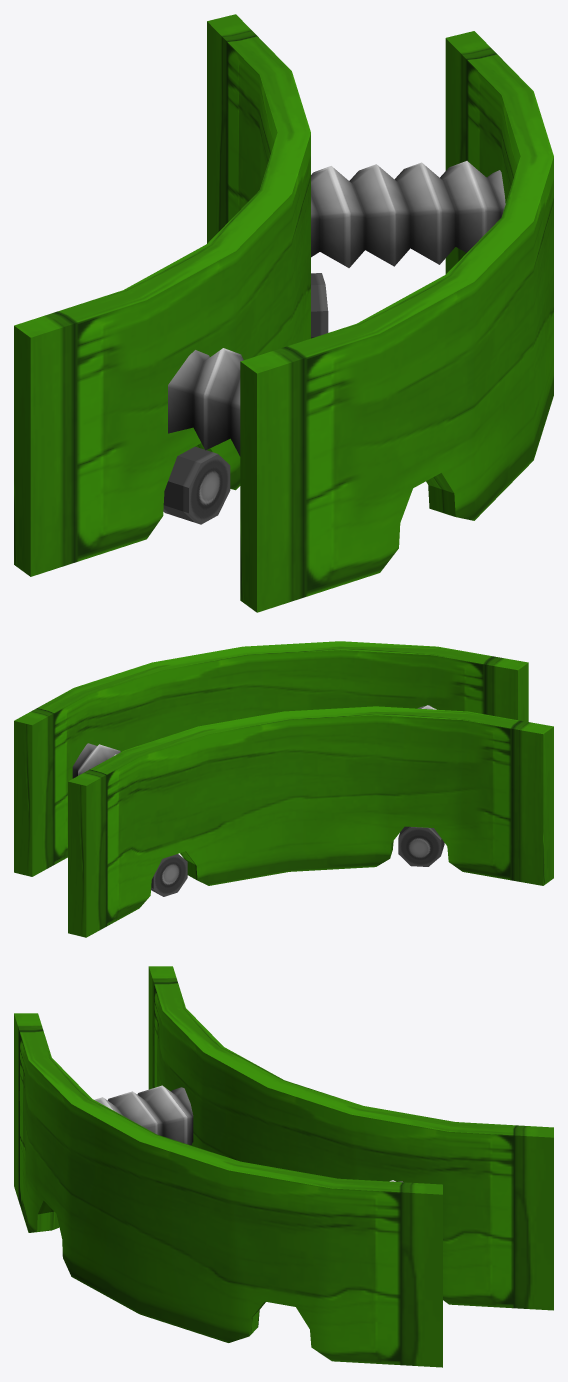
Rendered from dynamic_arched_fence_green_02.fbx.
3 renders of one model, top to bottom at view 1: azimuth 30°, elevation 25°; view 2: azimuth 150°, elevation 25°; view 3: azimuth 270°, elevation 25°, orthographic. The views are drawn at different scales.
Visible parts, largest first — view 1: dynamic_arched_fence_green_02; view 2: dynamic_arched_fence_green_02; view 3: dynamic_arched_fence_green_02.
Part boxes in pixels (left/top/right/bottom): dynamic_arched_fence_green_02: left=14, top=14, right=553, bottom=612; dynamic_arched_fence_green_02: left=14, top=641, right=553, bottom=937; dynamic_arched_fence_green_02: left=14, top=966, right=553, bottom=1367.
Size of the model in its own units: 113 by 40 by 113.
